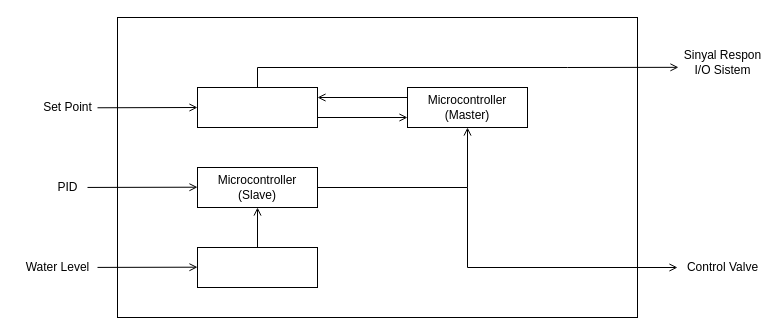
This 784x335 diagram has some shape labels left out. Here are the shapes that lost their labels. From the top down, the centre of each, then its label:
At point 257,107: "GUI".
At point 257,267: "Sensor".
